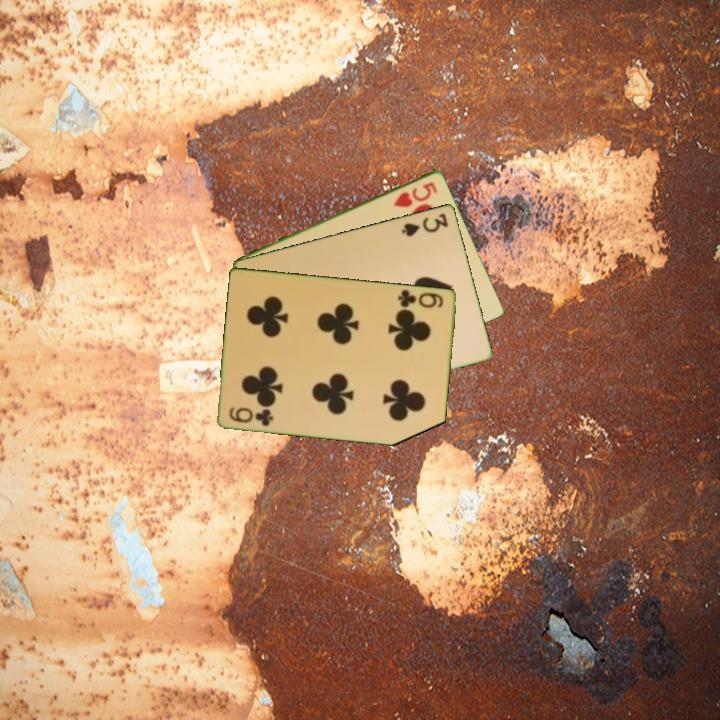3s: (398, 209, 451, 239)
5h: (390, 178, 440, 210)
6c: (394, 286, 447, 311), (226, 403, 276, 429)
